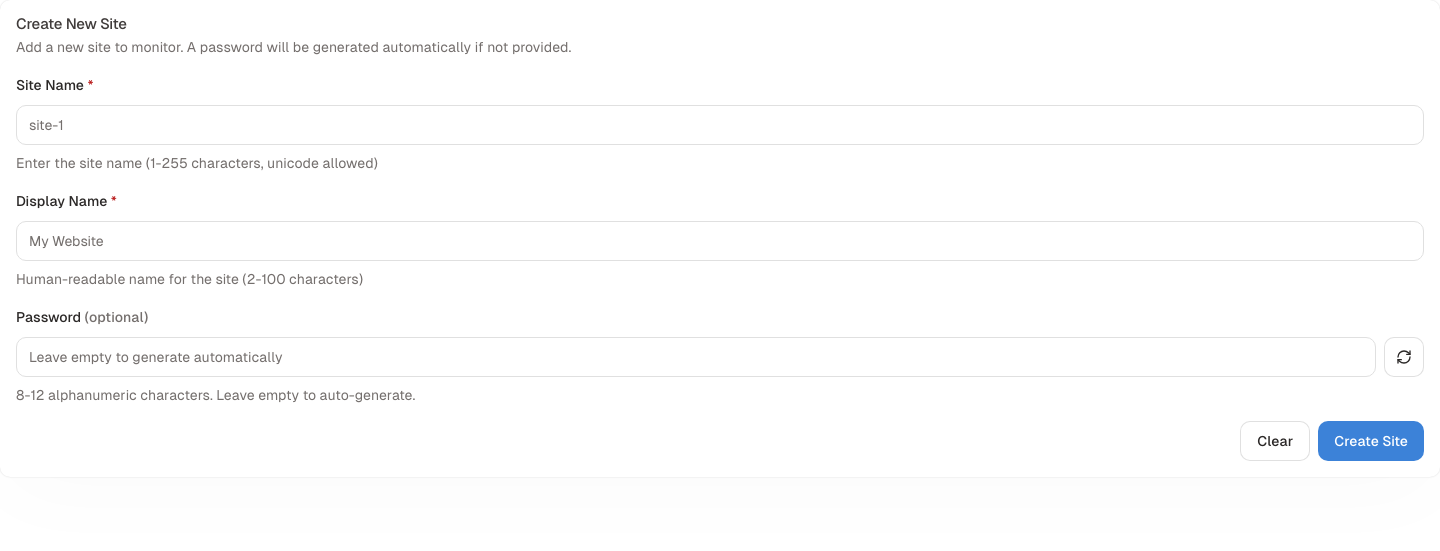
CreateSiteForm › Form Validation › should show error when site name is empty
Click the button "Create Site": [1371, 441] box [1318,421,1424,461]
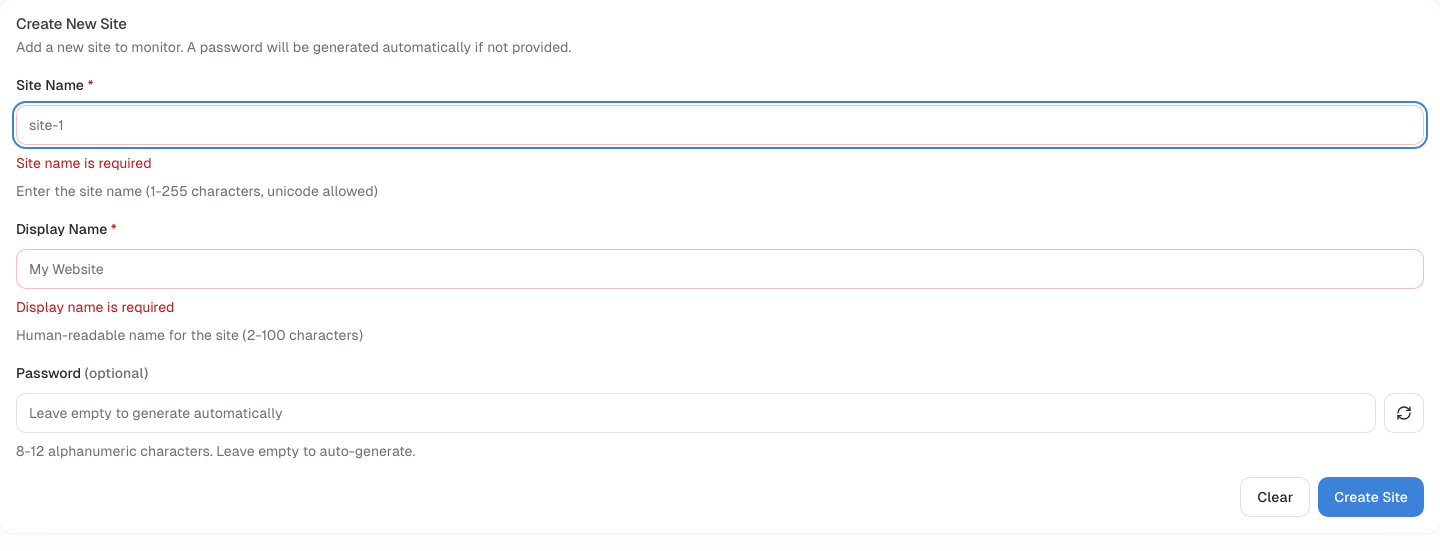
Expected: the text "Site name is required" is shown, [16,155,152,171]
